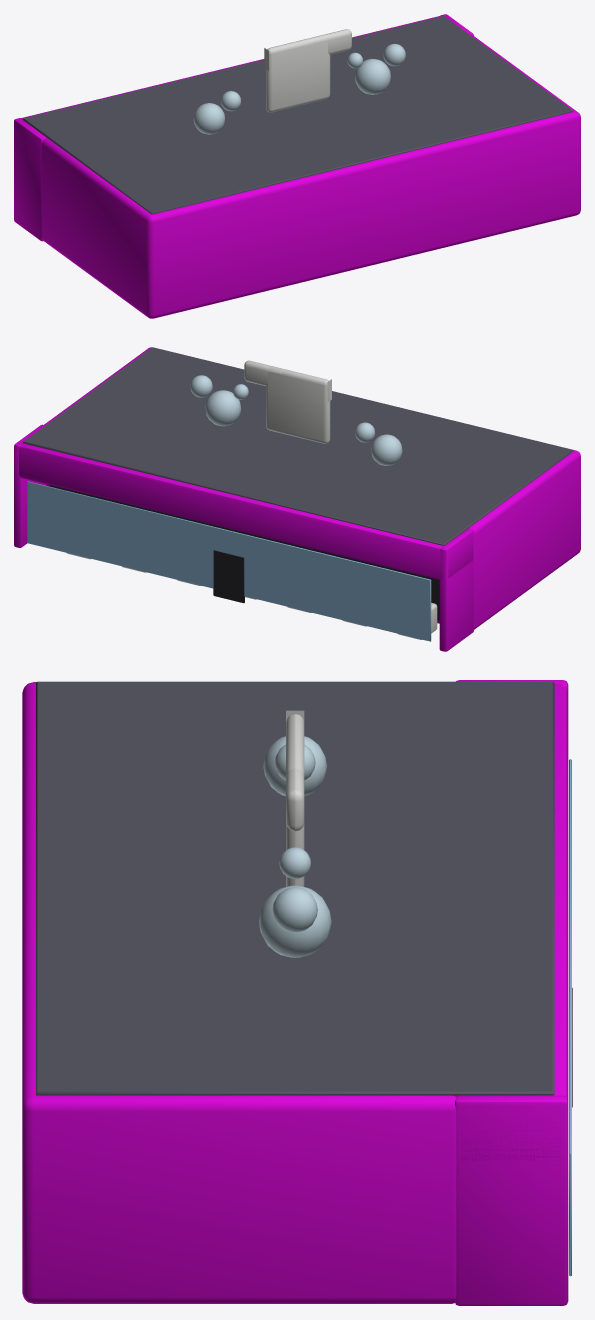
File: Poi_Laundromat.fbx
3 renders of one model, top to bottom at view 1: azimuth 30°, elevation 25°; view 2: azimuth 150°, elevation 25°; view 3: azimuth 270°, elevation 25°, orthographic. The views are drawn at different scales.
Visible parts, largest first — view 1: Poi_Laundromat; view 2: Poi_Laundromat; view 3: Poi_Laundromat.
Boxes of the visible parts, box(x1,y1,x2,y2) form: Poi_Laundromat: box(14, 14, 580, 318); Poi_Laundromat: box(14, 347, 580, 651); Poi_Laundromat: box(22, 680, 572, 1305).
Size of the model in its own units: 22 by 8.6 by 12.1.
